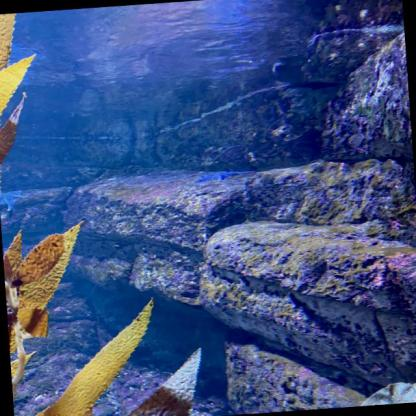starfish: (191, 164, 242, 184), (0, 188, 29, 215)
